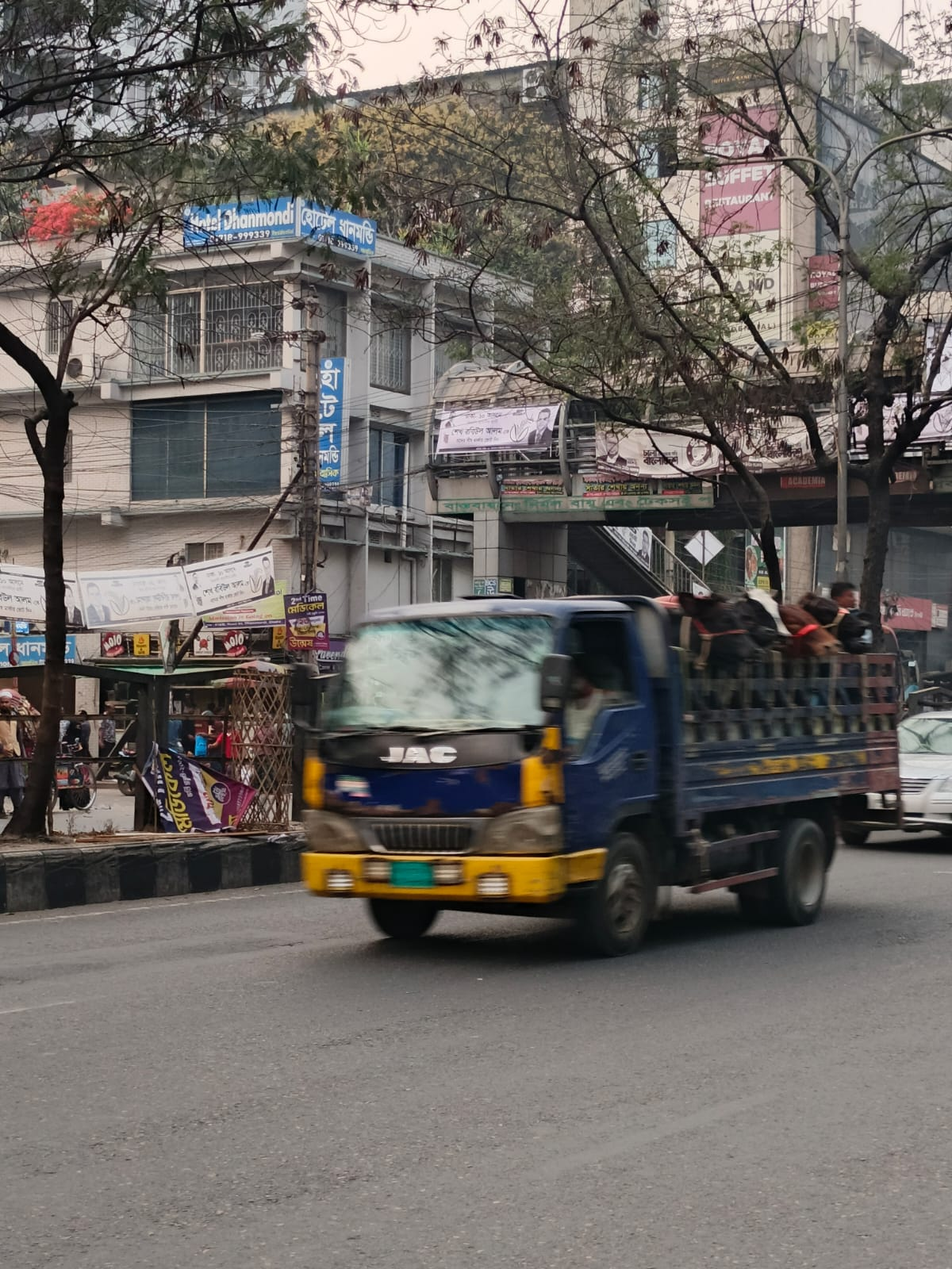Pickup: (307, 532, 937, 1033)
private car: (889, 688, 952, 832)
